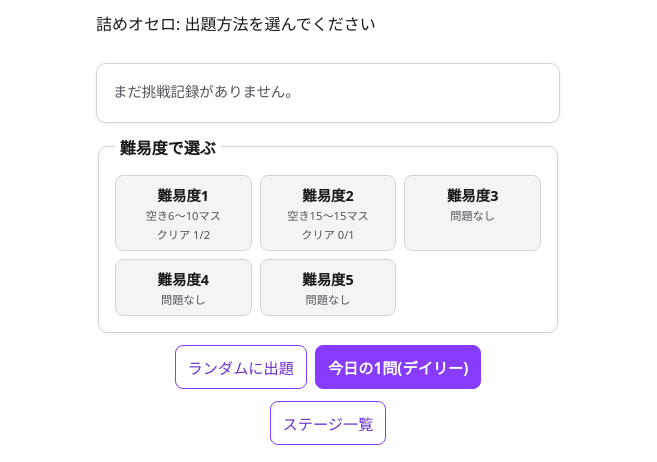
Test: T137要件2・3: 詰めオセロの設定画面・ステージ一覧 › ステージ一覧に「クリア x/N」サマリと進捗バーが表示され、クリア済み数に応じて値が変わる
Click the button "ステージ一覧" at coordinates (328, 423), box [270,401,386,445]
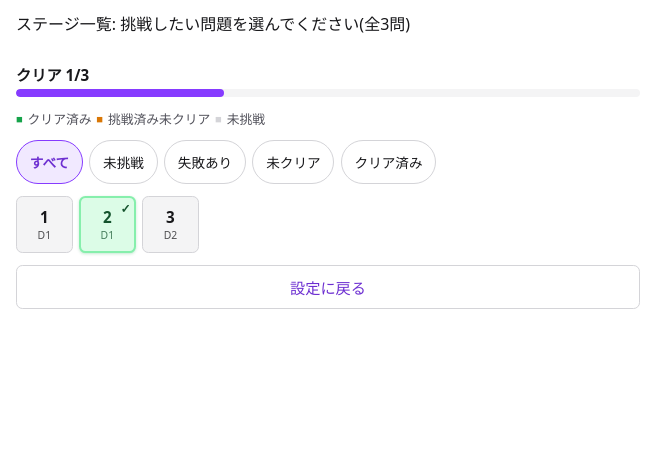
Expected: the text with class "tsume-stage-select__summary-text" reads "クリア 1/3", [16,65,89,85]
